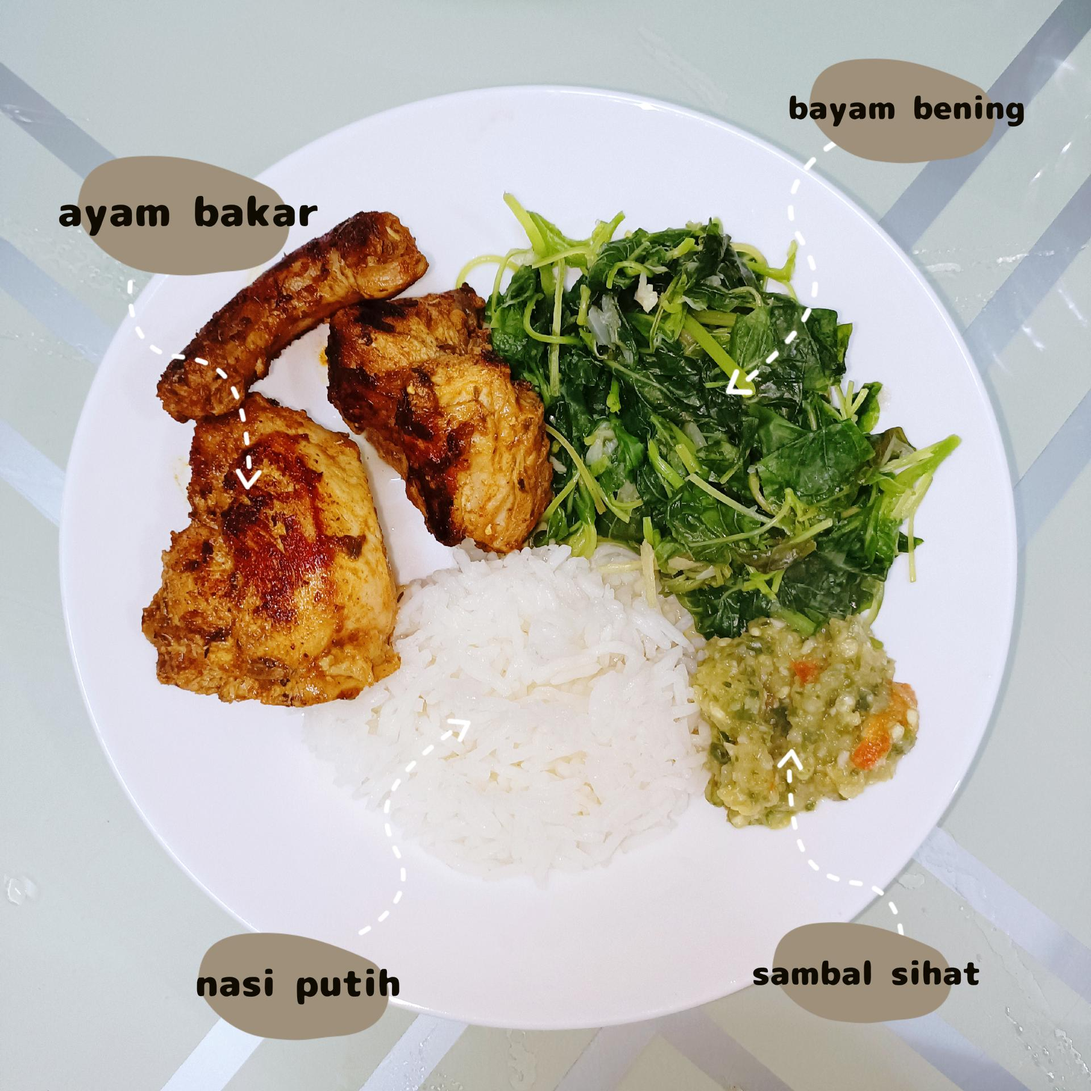buah_sayur_vitA: (570, 211, 951, 529)
daging: (97, 290, 456, 609)
makanan_berpati: (426, 640, 657, 840)
